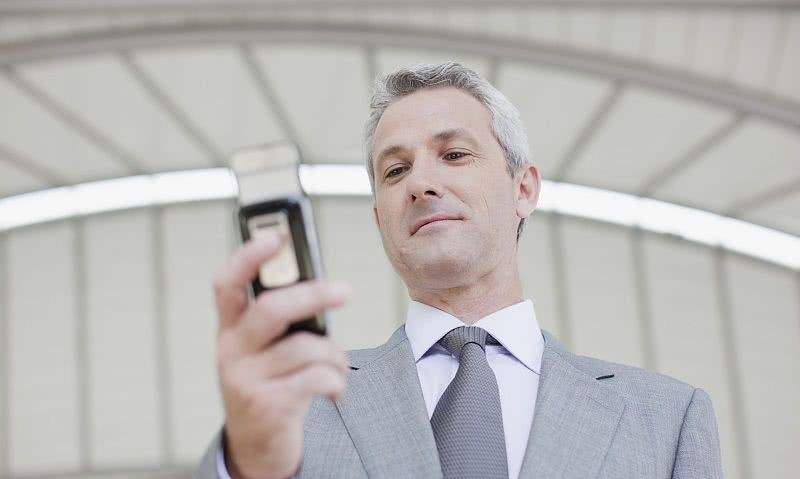reading: (203, 136, 359, 471)
